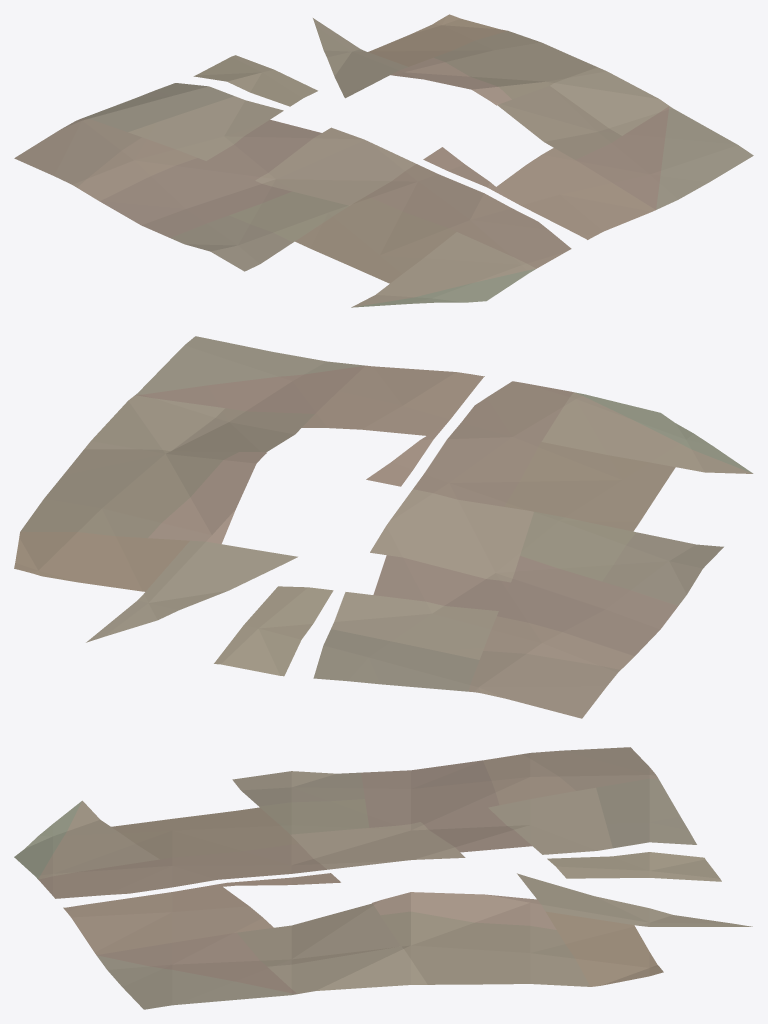
File: farm_-34_-32_soil.glb
3 views of the same model, one above another, from view 1: azimuth 30°, elevation 25°; view 2: azimuth 150°, elevation 25°; view 3: azimuth 270°, elevation 25° (orthographic). The views are drawn at different scales.
Parts seen in each view (by area): view 1: geometry_0; view 2: geometry_0; view 3: geometry_0.
Part boxes in pixels (bbox=[...]): geometry_0: bbox=[14, 14, 753, 307]; geometry_0: bbox=[14, 336, 753, 718]; geometry_0: bbox=[14, 747, 752, 1009].
Bounding box in the file's own units: 470 × 46.88 × 496.
